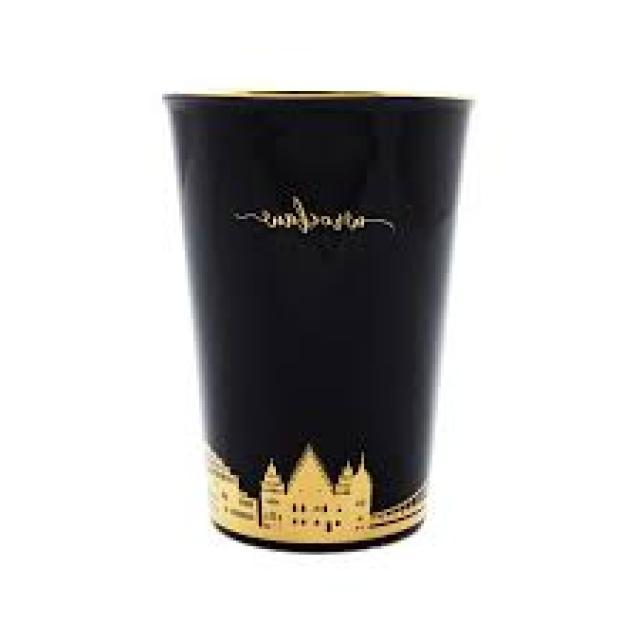Coffee Mug: (164, 91, 475, 555)
